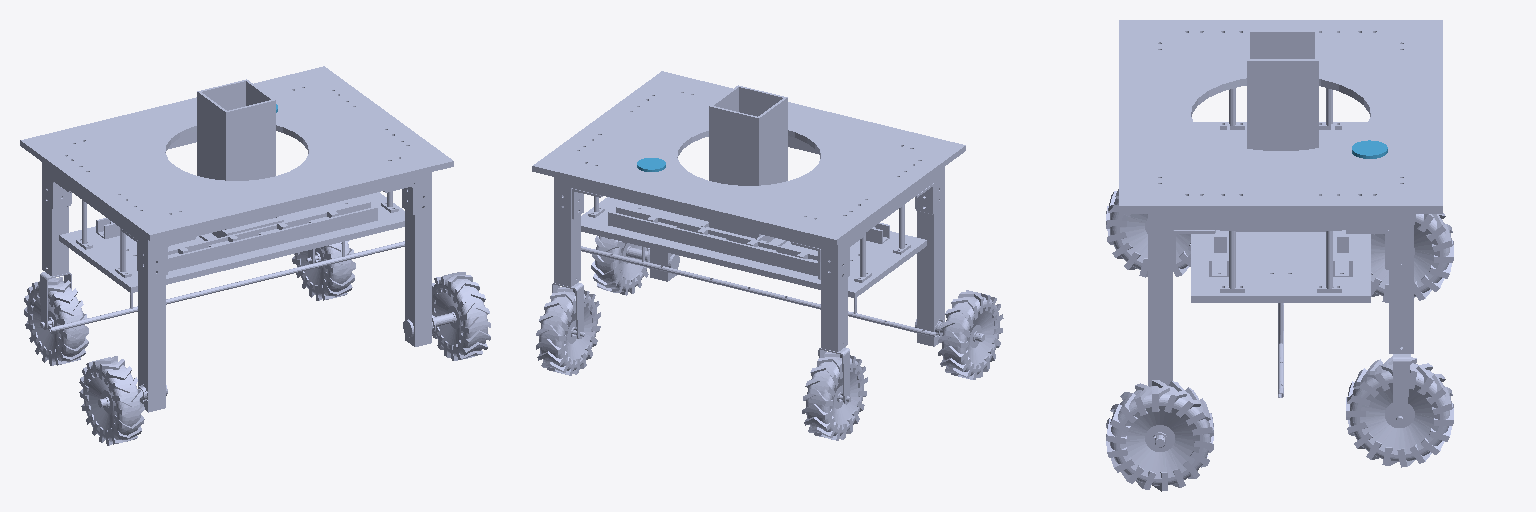
The robot description file, URDF, robot "KWR":
<?xml version="1.0" encoding="utf-8"?>
<!-- This URDF was automatically created by SolidWorks to URDF Exporter! Originally created by [author] ([email redacted]) 
     Commit Version: 1.5.1-0-g916b5db  Build Version: 1.5.7152.31018
     For more information, please see http://wiki.ros.org/sw_urdf_exporter -->
<robot
  name="KWR">
  <link
    name="base_link">
    <inertial>
      <origin
        xyz="0.000269985903504064 -0.00723571787463088 0.233448046416156"
        rpy="0 0 0" />
      <mass
        value="25.3177334234895" />
      <inertia
        ixx="2.50336961243006"
        ixy="0.00895161030313043"
        ixz="0.0114760535814583"
        iyy="4.5782566370328"
        iyz="-0.164386088807838"
        izz="6.16884819486765" />
    </inertial>
    <visual>
      <origin
        xyz="0 0 0"
        rpy="0 0 0" />
      <geometry>
        <mesh
          filename="package://KWR/meshes/base_link.STL" />
      </geometry>
      <material
        name="">
        <color
          rgba="0.792156862745098 0.819607843137255 0.933333333333333 1" />
      </material>
    </visual>
    <collision>
      <origin
        xyz="0 0 0"
        rpy="0 0 0" />
      <geometry>
        <mesh
          filename="package://KWR/meshes/base_link.STL" />
      </geometry>
    </collision>
  </link>
<link name="imu_link">
  <inertial>
        <origin xyz="0 0 0" rpy="0 0 0" />
        <mass value="1" />
        <inertia  ixx="0.001458333" ixy = "0" ixz = "0"
            iyy="0.001458333" iyz = "0"
            izz="0.00125" />
    </inertial>

    <visual>
        <origin xyz="0 0 0" rpy="0 0 0" />
        <geometry>
        <cylinder radius="0.05" length="0.025"/>
        </geometry>
        <material name="black" />
    </visual>

    <collision>
        <origin xyz="0 0 0" rpy="0 0 0"/>
        <geometry>
        <cylinder radius="0.05" length="0.1"/>
        </geometry>
    </collision>
    </link>

	<joint name="joint_sensor_imu" type="fixed">
		<origin xyz="0.25 0.25 0.29" rpy="0 0 0"/>
		<parent link="base_link"/>
		<child link="imu_link"/>
	  </joint>

<gazebo reference="imu_link">
    <gravity>true</gravity>
    <sensor name="imu_sensor" type="imu">
      <always_on>true</always_on>
      <update_rate>100</update_rate>
      <visualize>true</visualize>
      <topic>__default_topic__</topic>
      <plugin filename="libgazebo_ros_imu_sensor.so" name="imu_plugin">
        <topicName>imu</topicName>
        <bodyName>imu_link</bodyName>
        <updateRateHZ>10.0</updateRateHZ>
        <gaussianNoise>0.0</gaussianNoise>
        <xyzOffset>0 0 0</xyzOffset>
        <rpyOffset>0 0 0</rpyOffset>
        <frameName>imu_link</frameName>
        <initialOrientationAsReference>false</initialOrientationAsReference>
      </plugin>
      <pose>0 0 0 0 0 0</pose>
    </sensor>
  </gazebo>
 <link
    name="Front_right_wheel">
    <inertial>
      <origin
        xyz="-0.0599997729434821 -3.66233705584307E-06 1.58655951598696E-07"
        rpy="0 0 0" />
      <mass
        value="4.76076416185084" />
      <inertia
        ixx="0.0553436391434272"
        ixy="-1.79662109493217E-07"
        ixz="9.03689593080399E-08"
        iyy="0.0301932079133706"
        iyz="5.21014287157303E-08"
        izz="0.0301931081564576" />
    </inertial>
    <visual>
      <origin
        xyz="0 0 0"
        rpy="0 0 0" />
      <geometry>
        <mesh
          filename="package://KWR/meshes/Front_right_wheel.STL" />
      </geometry>
      <material
        name="">
        <color
          rgba="0.792156862745098 0.819607843137255 0.933333333333333 1" />
      </material>
    </visual>
    <collision>
      <origin
        xyz="0 0 0"
        rpy="0 0 0" />
      <geometry>
        <mesh
          filename="package://KWR/meshes/Front_right_wheel.STL" />
      </geometry>
    </collision>
  </link>
  <joint
    name="Front_right_wheel_joint"
    type="continuous">
    <origin
      xyz="0.59508 0.33363 -0.3716"
      rpy="0 0 0" />
    <parent
      link="base_link" />
    <child
      link="Front_right_wheel" />
    <axis
      xyz="1 0 0" />
  </joint>
  <link
    name="Front_left_wheel_">
    <inertial>
      <origin
        xyz="0.0600000792099205 -3.273228330547E-06 -1.96700302268482E-07"
        rpy="0 0 0" />
      <mass
        value="4.76085895307256" />
      <inertia
        ixx="0.0553450246494473"
        ixy="2.91558388966831E-08"
        ixz="6.76637370907329E-09"
        iyy="0.030194010150652"
        iyz="4.01042837731685E-08"
        izz="0.0301937462973591" />
    </inertial>
    <visual>
      <origin
        xyz="0 0 0"
        rpy="0 0 0" />
      <geometry>
        <mesh
          filename="package://KWR/meshes/Front_left_wheel_.STL" />
      </geometry>
      <material
        name="">
        <color
          rgba="0.792156862745098 0.819607843137255 0.933333333333333 1" />
      </material>
    </visual>
    <collision>
      <origin
        xyz="0 0 0"
        rpy="0 0 0" />
      <geometry>
        <mesh
          filename="package://KWR/meshes/Front_left_wheel_.STL" />
      </geometry>
    </collision>
  </link>
  <joint
    name="Front_left_wheel_joint"
    type="continuous">
    <origin
      xyz="-0.59492 0.33363 -0.3716"
      rpy="0 0 0" />
    <parent
      link="base_link" />
    <child
      link="Front_left_wheel_" />
    <axis
      xyz="1 0 0" />
  </joint>
  <link
    name="Rear_right_wheel">
    <inertial>
      <origin
        xyz="-0.0493291688771725 2.72396786260565E-06 -1.82557218364465E-06"
        rpy="0 0 0" />
      <mass
        value="4.76085895307256" />
      <inertia
        ixx="0.0553450246494474"
        ixy="2.17266865600176E-08"
        ixz="-2.0586350976659E-08"
        iyy="0.0301939076221527"
        iyz="-1.34717269041666E-07"
        izz="0.0301938488258585" />
    </inertial>
    <visual>
      <origin
        xyz="0 0 0"
        rpy="0 0 0" />
      <geometry>
        <mesh
          filename="package://KWR/meshes/Rear_right_wheel.STL" />
      </geometry>
      <material
        name="">
        <color
          rgba="0.792156862745098 0.819607843137255 0.933333333333333 1" />
      </material>
    </visual>
    <collision>
      <origin
        xyz="0 0 0"
        rpy="0 0 0" />
      <geometry>
        <mesh
          filename="package://KWR/meshes/Rear_right_wheel.STL" />
      </geometry>
    </collision>
  </link>
  <joint
    name="Rear_right_wheel_joint"
    type="continuous">
    <origin
      xyz="0.74508 -0.33137 -0.37"
      rpy="0 0 0" />
    <parent
      link="base_link" />
    <child
      link="Rear_right_wheel" />
    <axis
      xyz="1 0 0" />
  </joint>

 <transmission name="Rear_right_wheel_trans">
    <type>transmission_interface/SimpleTransmission</type>
    <joint name="Rear_right_wheel_joint">
      <hardwareInterface> hardware_interface/VelocityJointInterface</hardwareInterface>
    </joint>
    <actuator name="Rear_right_wheel_motor">
      <hardwareInterface>VelocityJointInterface</hardwareInterface>
    </actuator>
  </transmission>

  <link
    name="Rear_left_wheel">
    <inertial>
      <origin
        xyz="0.0483053593533643 3.07542179184273E-06 -1.13775899102109E-06"
        rpy="0 0 0" />
      <mass
        value="4.76085895307258" />
      <inertia
        ixx="0.0553450246494476"
        ixy="-2.94126759159225E-08"
        ixz="5.54447936866499E-09"
        iyy="0.0301939969422733"
        iyz="-7.01353443938122E-08"
        izz="0.030193759505738" />
    </inertial>
    <visual>
      <origin
        xyz="0 0 0"
        rpy="0 0 0" />
      <geometry>
        <mesh
          filename="package://KWR/meshes/Rear_left_wheel.STL" />
      </geometry>
      <material
        name="">
        <color
          rgba="0.792156862745098 0.819607843137255 0.933333333333333 1" />
      </material>
    </visual>
    <collision>
      <origin
        xyz="0 0 0"
        rpy="0 0 0" />
      <geometry>
        <mesh
          filename="package://KWR/meshes/Rear_left_wheel.STL" />
      </geometry>
    </collision>
  </link>
  <joint
    name="Rear_left_wheel_joint"
    type="continuous">
    <origin
      xyz="-0.74389 -0.33137 -0.37"
      rpy="0 0 0" />
    <parent
      link="base_link" />
    <child
      link="Rear_left_wheel" />
    <axis
      xyz="-1 0 0" />
  </joint>

 <transmission name="Rear_left_wheel_trans">
    <type>transmission_interface/SimpleTransmission</type>
    <joint name="Rear_left_wheel_joint">
      <hardwareInterface> hardware_interface/VelocityJointInterface</hardwareInterface>
    </joint>
    <actuator name="Rear_left_wheel_motor">
      <hardwareInterface>VelocityJointInterface</hardwareInterface>
    </actuator>
  </transmission>

<link
    name="Nozzle_ruler">
    <inertial>
      <origin
        xyz="0.247230574698654 0.752050073143058 0.0903676146440458"
        rpy="0 0 0" />
      <mass
        value="21.4107259194154" />
      <inertia
        ixx="2.068846630878"
        ixy="0.000770241137918507"
        ixz="0.0330728689381973"
        iyy="0.68639361830336"
        iyz="0.000391561721216293"
        izz="2.00363181774061" />
    </inertial>
    <visual>
      <origin
        xyz="0 0 0"
        rpy="0 0 0" />
      <geometry>
        <mesh
          filename="package://KWR/meshes/Nozzle_ruler.STL" />
      </geometry>
      <material
        name="">
        <color
          rgba="0.792156862745098 0.819607843137255 0.933333333333333 1" />
      </material>
    </visual>
    <collision>
      <origin
        xyz="0 0 0"
        rpy="0 0 0" />
      <geometry>
        <mesh
          filename="package://KWR/meshes/Nozzle_ruler.STL" />
      </geometry>
    </collision>
  </link>
  <joint
    name="Nozzle_ruler_Joint"
    type="fixed">
    <origin
      xyz="0.75008 0.0036348 -0.222"
      rpy="0 -1.2201 1.5708" />
    <parent
      link="base_link" />
    <child
      link="Nozzle_ruler" />
    <axis
      xyz="0 0 0" />
  </joint>
  <link
    name="Right_Ruler">
    <inertial>
      <origin
        xyz="-1.11022302462516E-16 -0.00195418807822123 -0.0674953880030563"
        rpy="0 0 0" />
      <mass
        value="0.108301439191116" />
      <inertia
        ixx="0.000444941780573456"
        ixy="3.64040511128356E-20"
        ixz="8.23520303899983E-20"
        iyy="0.000635878161339009"
        iyz="-1.15678198960764E-05"
        izz="0.000230470088702199" />
    </inertial>
    <visual>
      <origin
        xyz="0 0 0"
        rpy="0 0 0" />
      <geometry>
        <mesh
          filename="package://KWR/meshes/Right_Ruler.STL" />
      </geometry>
      <material
        name="">
        <color
          rgba="0.792156862745098 0.819607843137255 0.933333333333333 1" />
      </material>
    </visual>
    <collision>
      <origin
        xyz="0 0 0"
        rpy="0 0 0" />
      <geometry>
        <mesh
          filename="package://KWR/meshes/Right_Ruler.STL" />
      </geometry>
    </collision>
  </link>
  <joint
    name="Right_Ruler_Joint"
    type="revolute">
    <origin
      xyz="0.53508 0.33863 -0.1966"
      rpy="0 0 0" />
    <parent
      link="base_link" />
    <child
      link="Right_Ruler" />
    <axis
      xyz="0 0 1" />
    <limit
      lower="0"
      upper="0"
      effort="0"
      velocity="0" />
  </joint>
  <link
    name="Left_Ruler">
    <inertial>
      <origin
        xyz="-3.33066907387547E-16 -0.0019541880782212 -0.0674953880030562"
        rpy="0 0 0" />
      <mass
        value="0.108301439191117" />
      <inertia
        ixx="0.000444941780573458"
        ixy="-1.88991886763077E-20"
        ixz="-2.30136835342204E-19"
        iyy="0.000635878161339012"
        iyz="-1.15678198960763E-05"
        izz="0.0002304700887022" />
    </inertial>
    <visual>
      <origin
        xyz="0 0 0"
        rpy="0 0 0" />
      <geometry>
        <mesh
          filename="package://KWR/meshes/Left_Ruler.STL" />
      </geometry>
      <material
        name="">
        <color
          rgba="0.792156862745098 0.819607843137255 0.933333333333333 1" />
      </material>
    </visual>
    <collision>
      <origin
        xyz="0 0 0"
        rpy="0 0 0" />
      <geometry>
        <mesh
          filename="package://KWR/meshes/Left_Ruler.STL" />
      </geometry>
    </collision>
  </link>
  <joint
    name="Left_Ruler_Joint"
    type="revolute">
    <origin
      xyz="-0.53492 0.33863 -0.1966"
      rpy="0 0 0" />
    <parent
      link="base_link" />
    <child
      link="Left_Ruler" />
    <axis
      xyz="0 0 -1" />
    <limit
      lower="0"
      upper="0"
      effort="0"
      velocity="0" />
  </joint>

<gazebo>
 <static>false</static>
  <plugin name="gazebo_ros_control" filename="libgazebo_ros_control.so">
	<robotNamespace>robot</robotNamespace>
	<legacyModeNS>true</legacyModeNS>
  </plugin>
</gazebo>
</robot>

--- Facts derived from the render (not from the file) ---
Views: 3 orthographic renders of the robot side by side, from view 1: azimuth 30°, elevation 25°; view 2: azimuth 150°, elevation 25°; view 3: azimuth 270°, elevation 25°.
Model KWR with 9 links and 8 joints (2 revolute, 4 continuous, 2 fixed), rooted at base_link, posed every joint at zero.
Visible links, largest first — view 1: base_link, Nozzle_ruler, Rear_left_wheel, Rear_right_wheel, Front_left_wheel_, Front_right_wheel; view 2: base_link, Nozzle_ruler, Rear_left_wheel, Front_left_wheel_, Front_right_wheel, Rear_right_wheel; view 3: base_link, Nozzle_ruler, Rear_right_wheel, Front_right_wheel, Front_left_wheel_, Rear_left_wheel, Right_Ruler, imu_link.
Boxes of the visible links, box(x1,y1,x2,y2) form: base_link: box(20, 66, 454, 412); Nozzle_ruler: box(49, 79, 404, 332); Rear_left_wheel: box(79, 356, 144, 445); Rear_right_wheel: box(432, 272, 490, 360); Front_left_wheel_: box(24, 277, 88, 365); Front_right_wheel: box(292, 240, 355, 300); base_link: box(532, 71, 984, 401); Nozzle_ruler: box(581, 85, 936, 337); Rear_left_wheel: box(938, 290, 1003, 379); Front_left_wheel_: box(802, 352, 867, 440); Front_right_wheel: box(536, 287, 600, 375); Rear_right_wheel: box(591, 236, 649, 295); base_link: box(1119, 20, 1442, 447); Nozzle_ruler: box(1191, 30, 1370, 397); Rear_right_wheel: box(1106, 380, 1213, 491); Front_right_wheel: box(1346, 356, 1453, 467); Front_left_wheel_: box(1371, 213, 1453, 302); Rear_left_wheel: box(1106, 189, 1190, 277); Right_Ruler: box(1393, 347, 1410, 425); imu_link: box(1352, 140, 1387, 158).
Bounding box of the posed robot: 1.5 × 0.9649 × 1.02 m (x, y, z).
8 mesh visuals loaded from 8 distinct referenced files (8 binary STL).